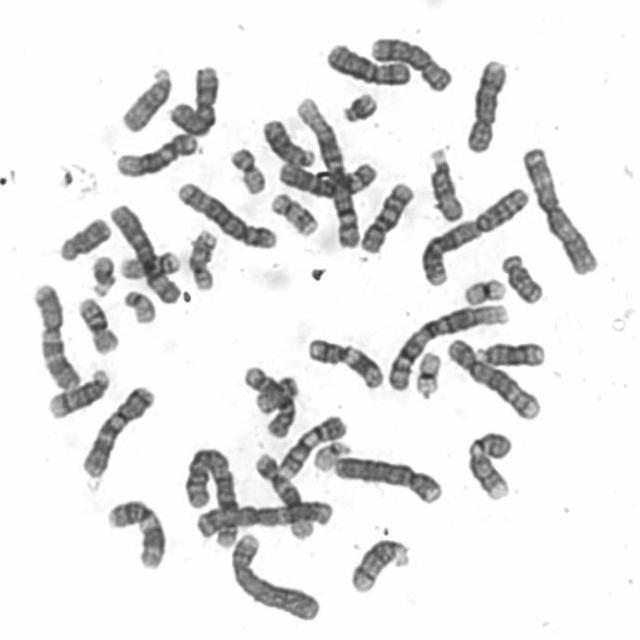A1: (382, 297, 512, 394), (291, 90, 363, 250)
A2: (416, 180, 532, 288), (178, 440, 242, 550)
A3: (517, 140, 601, 276), (188, 496, 342, 542)
B4: (225, 527, 322, 623), (328, 449, 445, 505)
B5: (441, 334, 543, 422), (173, 176, 279, 250)
C10: (354, 176, 416, 255), (238, 361, 296, 439)
C11: (101, 493, 167, 571), (302, 332, 386, 391)
C12: (249, 447, 317, 541), (111, 127, 201, 179)
C6: (104, 198, 183, 306), (272, 153, 382, 199)
C7: (76, 378, 157, 479), (27, 277, 82, 392)
C8: (366, 31, 454, 92), (461, 52, 511, 154)
C9: (273, 409, 349, 479), (461, 424, 515, 502)
D13: (258, 113, 318, 169), (470, 338, 543, 371)
D14: (344, 533, 412, 595), (42, 363, 112, 420)
D15: (116, 60, 176, 134), (423, 140, 466, 224)
E16: (72, 292, 121, 356), (115, 244, 183, 282)
E17: (266, 187, 320, 238), (183, 225, 220, 292)
E18: (54, 211, 112, 262), (496, 247, 546, 306)
F19: (411, 345, 443, 399), (459, 273, 508, 308)
F20: (225, 141, 268, 196), (250, 370, 300, 416)
G21: (337, 86, 380, 124), (85, 249, 118, 298)
G22: (306, 434, 354, 474), (118, 284, 158, 326)
X: (321, 36, 413, 87), (164, 58, 222, 138)
